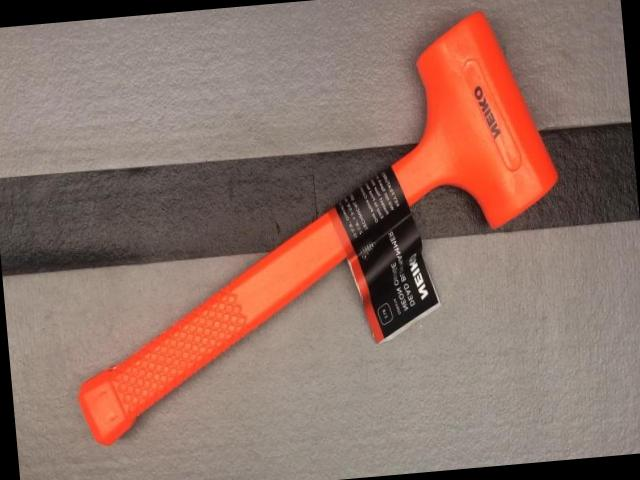hammer: (49, 6, 576, 448)
